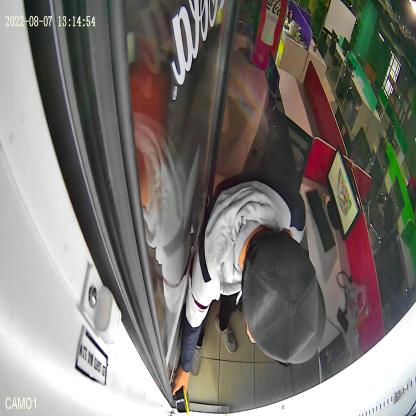yellow: (176, 386, 190, 414)
